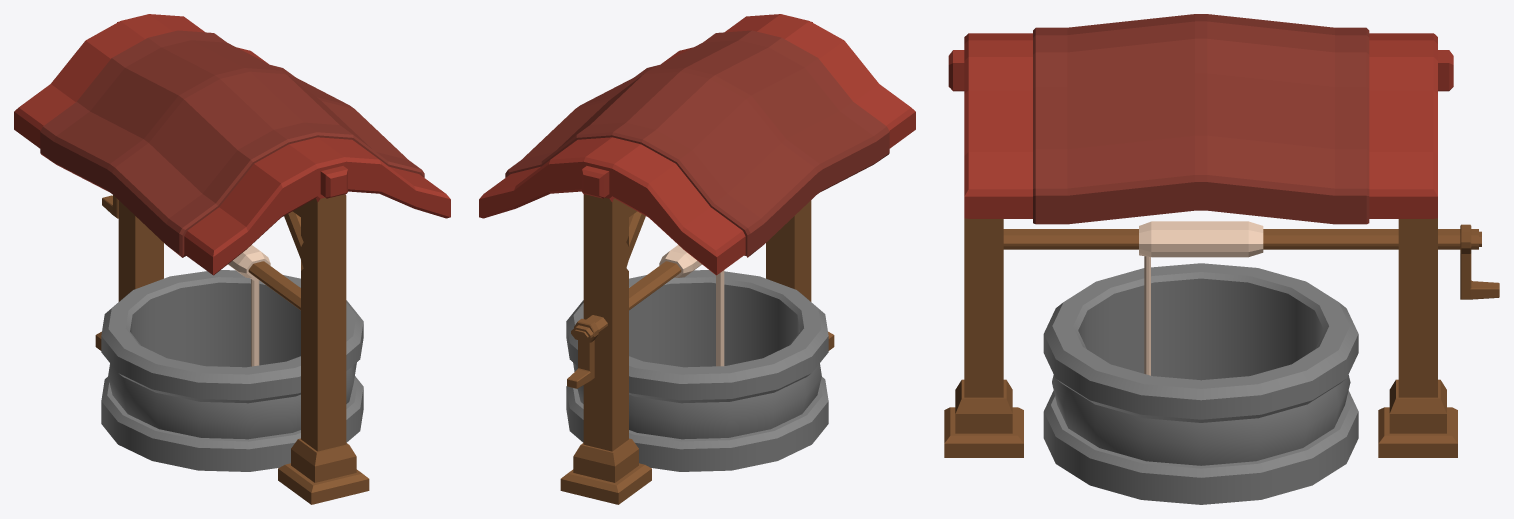
File: Well.fbx
The picture shows the model from 3 angles, left to right: view 1: azimuth 30°, elevation 25°; view 2: azimuth 150°, elevation 25°; view 3: azimuth 270°, elevation 25°; orthographic projection. The views are drawn at different scales.
Parts seen in each view (by area): view 1: Cylinder.007; view 2: Cylinder.007; view 3: Cylinder.007.
Part boxes in pixels (x1=…): Cylinder.007: x1=14, y1=14, x2=450, y2=504; Cylinder.007: x1=479, y1=14, x2=915, y2=504; Cylinder.007: x1=944, y1=14, x2=1499, y2=504.
Bounding box in the file's own units: 70.45 × 95.07 × 116.
